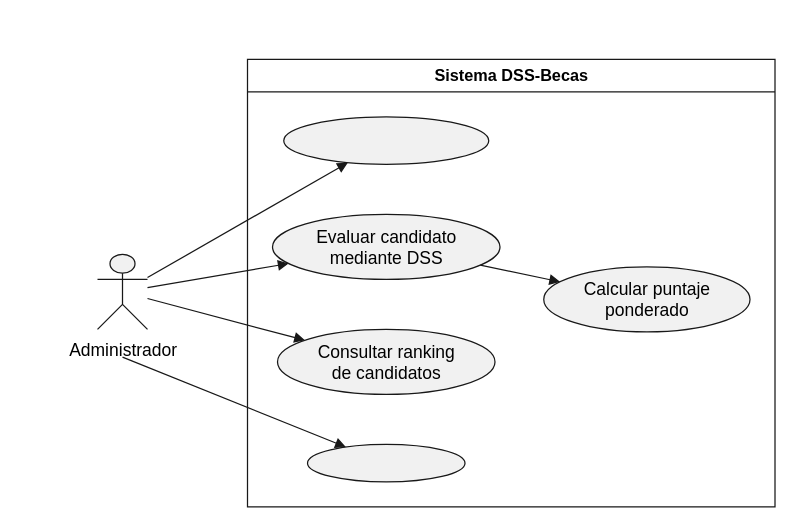
Some shapes in this 796 by 529 pixel diagram are drawn without their labels. Here are the shapes that lost their labels. From the top down, the box of each, then its label:
(282, 116, 489, 164): Registrar estudiante
(306, 443, 465, 482): Asignar beca
